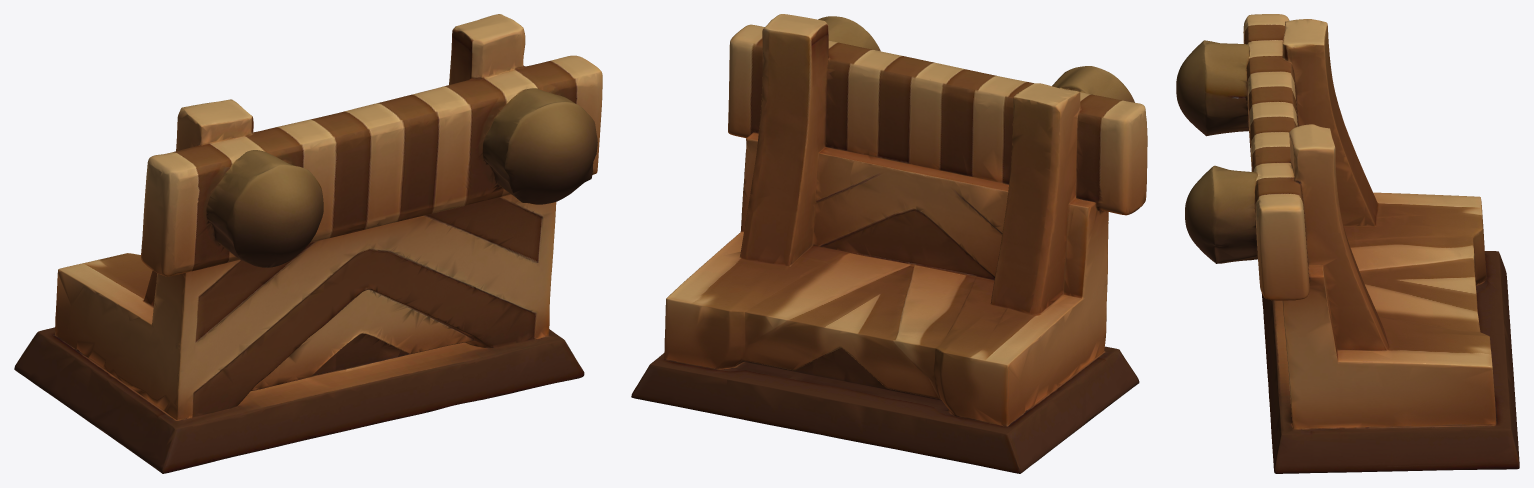
File: obstacle1.glb
3 views of the same model, side by side, from view 1: azimuth 30°, elevation 25°; view 2: azimuth 150°, elevation 25°; view 3: azimuth 270°, elevation 25° (orthographic). The views are drawn at different scales.
Parts seen in each view (by area): view 1: tripo_node_1af5aad6-3cff-448c-bae8-e9e4a73db578; view 2: tripo_node_1af5aad6-3cff-448c-bae8-e9e4a73db578; view 3: tripo_node_1af5aad6-3cff-448c-bae8-e9e4a73db578.
Part boxes in pixels (x1,y1,x2,y2): tripo_node_1af5aad6-3cff-448c-bae8-e9e4a73db578: [14, 14, 602, 473]; tripo_node_1af5aad6-3cff-448c-bae8-e9e4a73db578: [631, 14, 1147, 473]; tripo_node_1af5aad6-3cff-448c-bae8-e9e4a73db578: [1176, 14, 1519, 473].
Size of the model in its own units: 1.01 by 0.7604 by 0.7689.
Materials: 1 (1 with a texture image).
